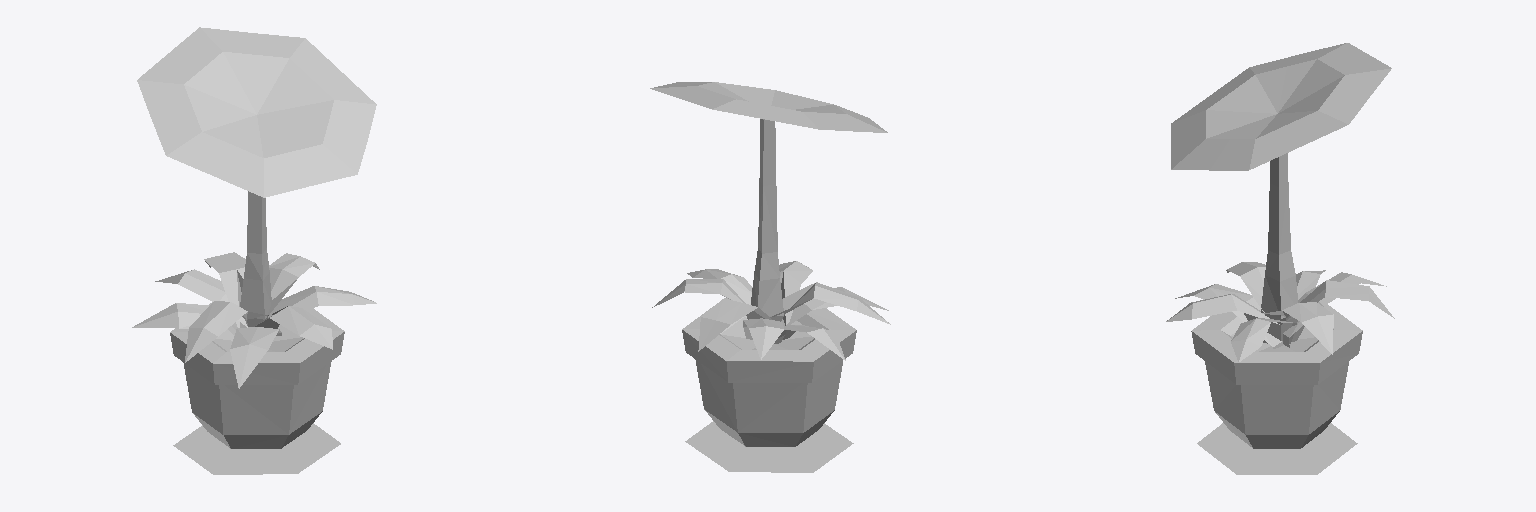
File: FlowersFromMars.obj
3 renders of one model, left to right at view 1: azimuth 30°, elevation 25°; view 2: azimuth 150°, elevation 25°; view 3: azimuth 270°, elevation 25°, orthographic.
Parts seen in each view (by area): view 1: polySurface1.006; view 2: polySurface1.006; view 3: polySurface1.006.
Part boxes in pixels (bbox=[...]): polySurface1.006: bbox=[132, 27, 376, 474]; polySurface1.006: bbox=[650, 82, 890, 472]; polySurface1.006: bbox=[1166, 43, 1394, 474].
Bounding box in the file's own units: 1.06 × 1.79 × 0.9969.